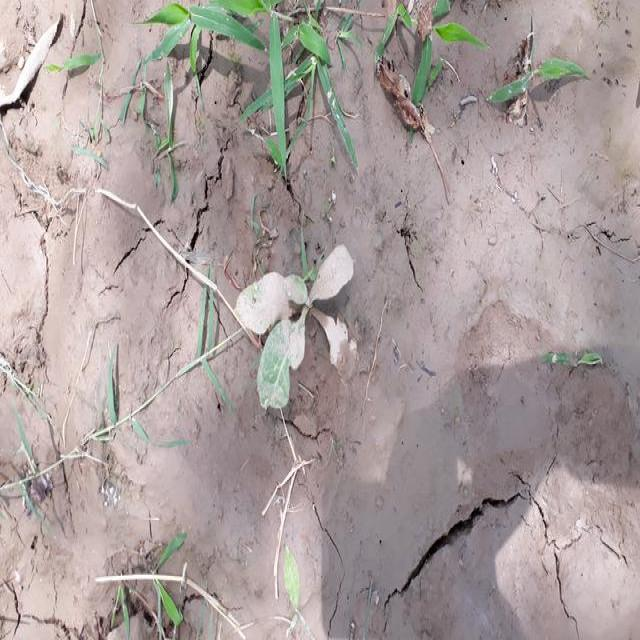crop: (238, 247, 360, 415)
